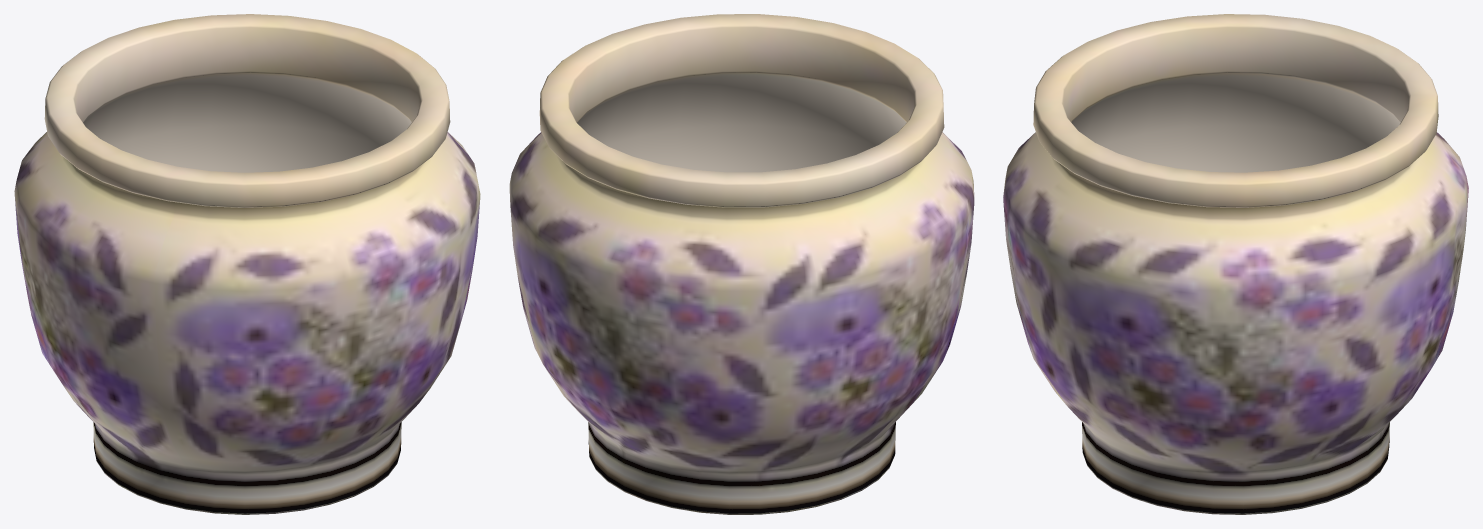
File: obj_japan_porcelain_vase.glb
3 views of the same model, side by side, from view 1: azimuth 30°, elevation 25°; view 2: azimuth 150°, elevation 25°; view 3: azimuth 270°, elevation 25° (orthographic).
Parts seen in each view (by area): view 1: defaultMaterial; view 2: defaultMaterial; view 3: defaultMaterial.
Part boxes in pixels (box(x1,y1,x2,y2)): defaultMaterial: box(14, 14, 480, 514); defaultMaterial: box(509, 14, 974, 514); defaultMaterial: box(1003, 14, 1468, 514).
Size of the model in its own units: 0.3835 by 0.32 by 0.3835.
Materials: 1 (1 with a texture image).
